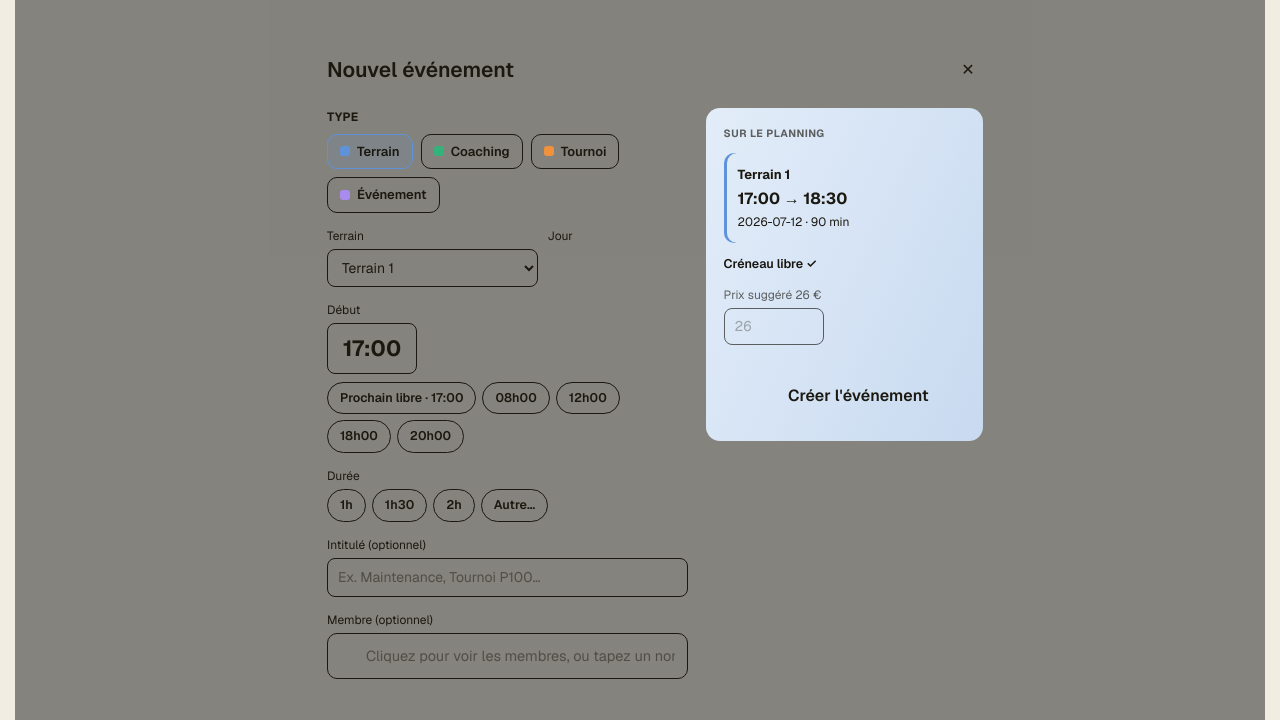
Test: CreateEventModal — durée › changer de chip de durée met à jour la fin affichée dans le récap
Click the button "1h" at (346, 505), box [327,489,366,522]
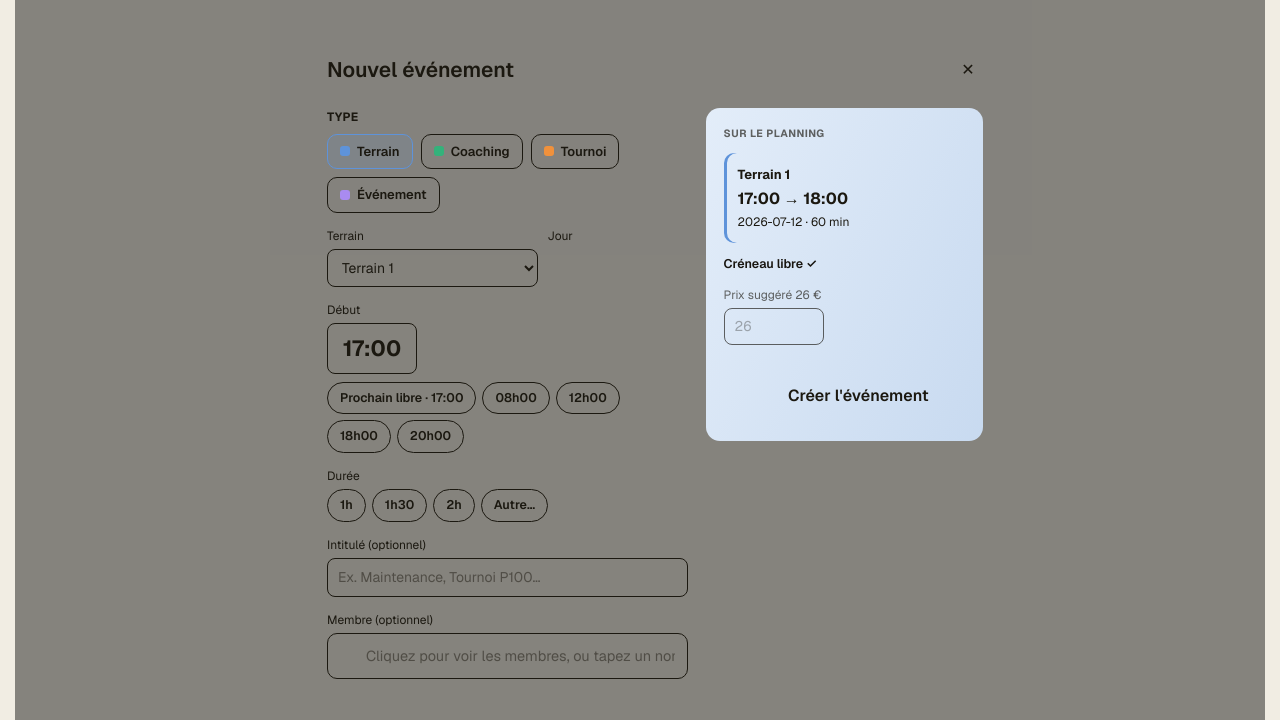
Expected: the text "17:00 → 18:00" is shown, [738,188,848,209]
